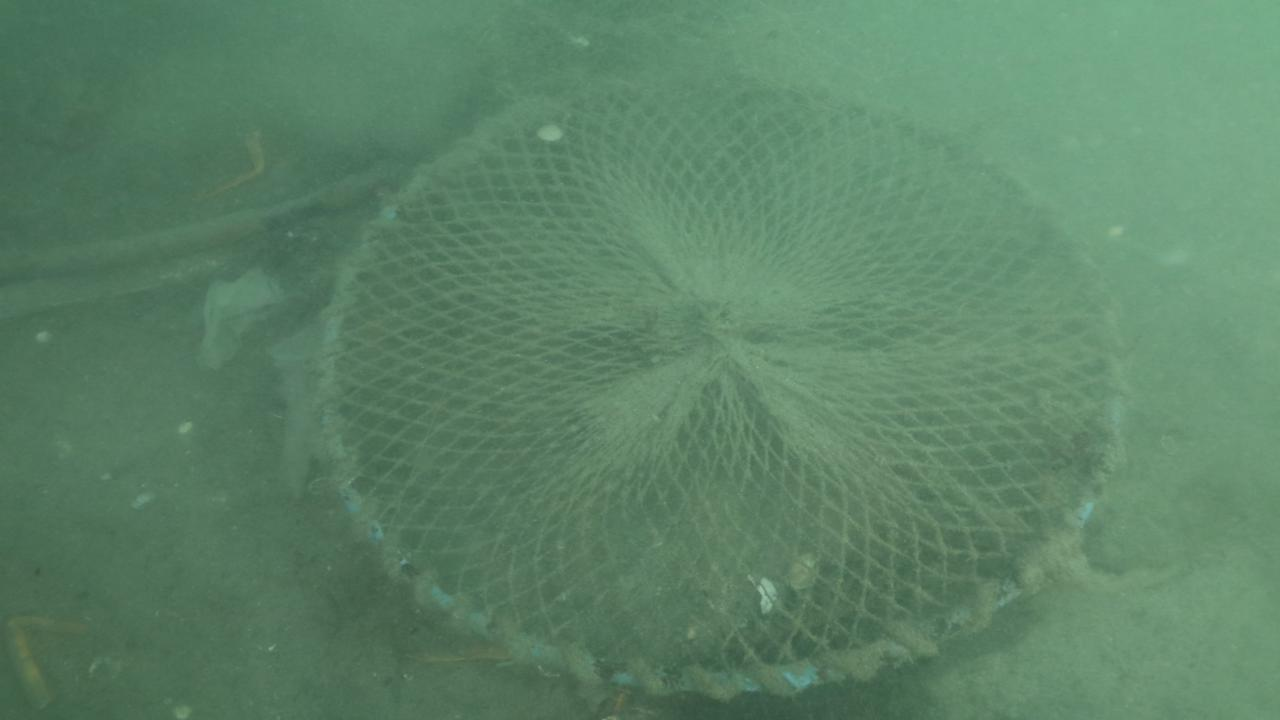circular fish trap: (306, 64, 1136, 700)
